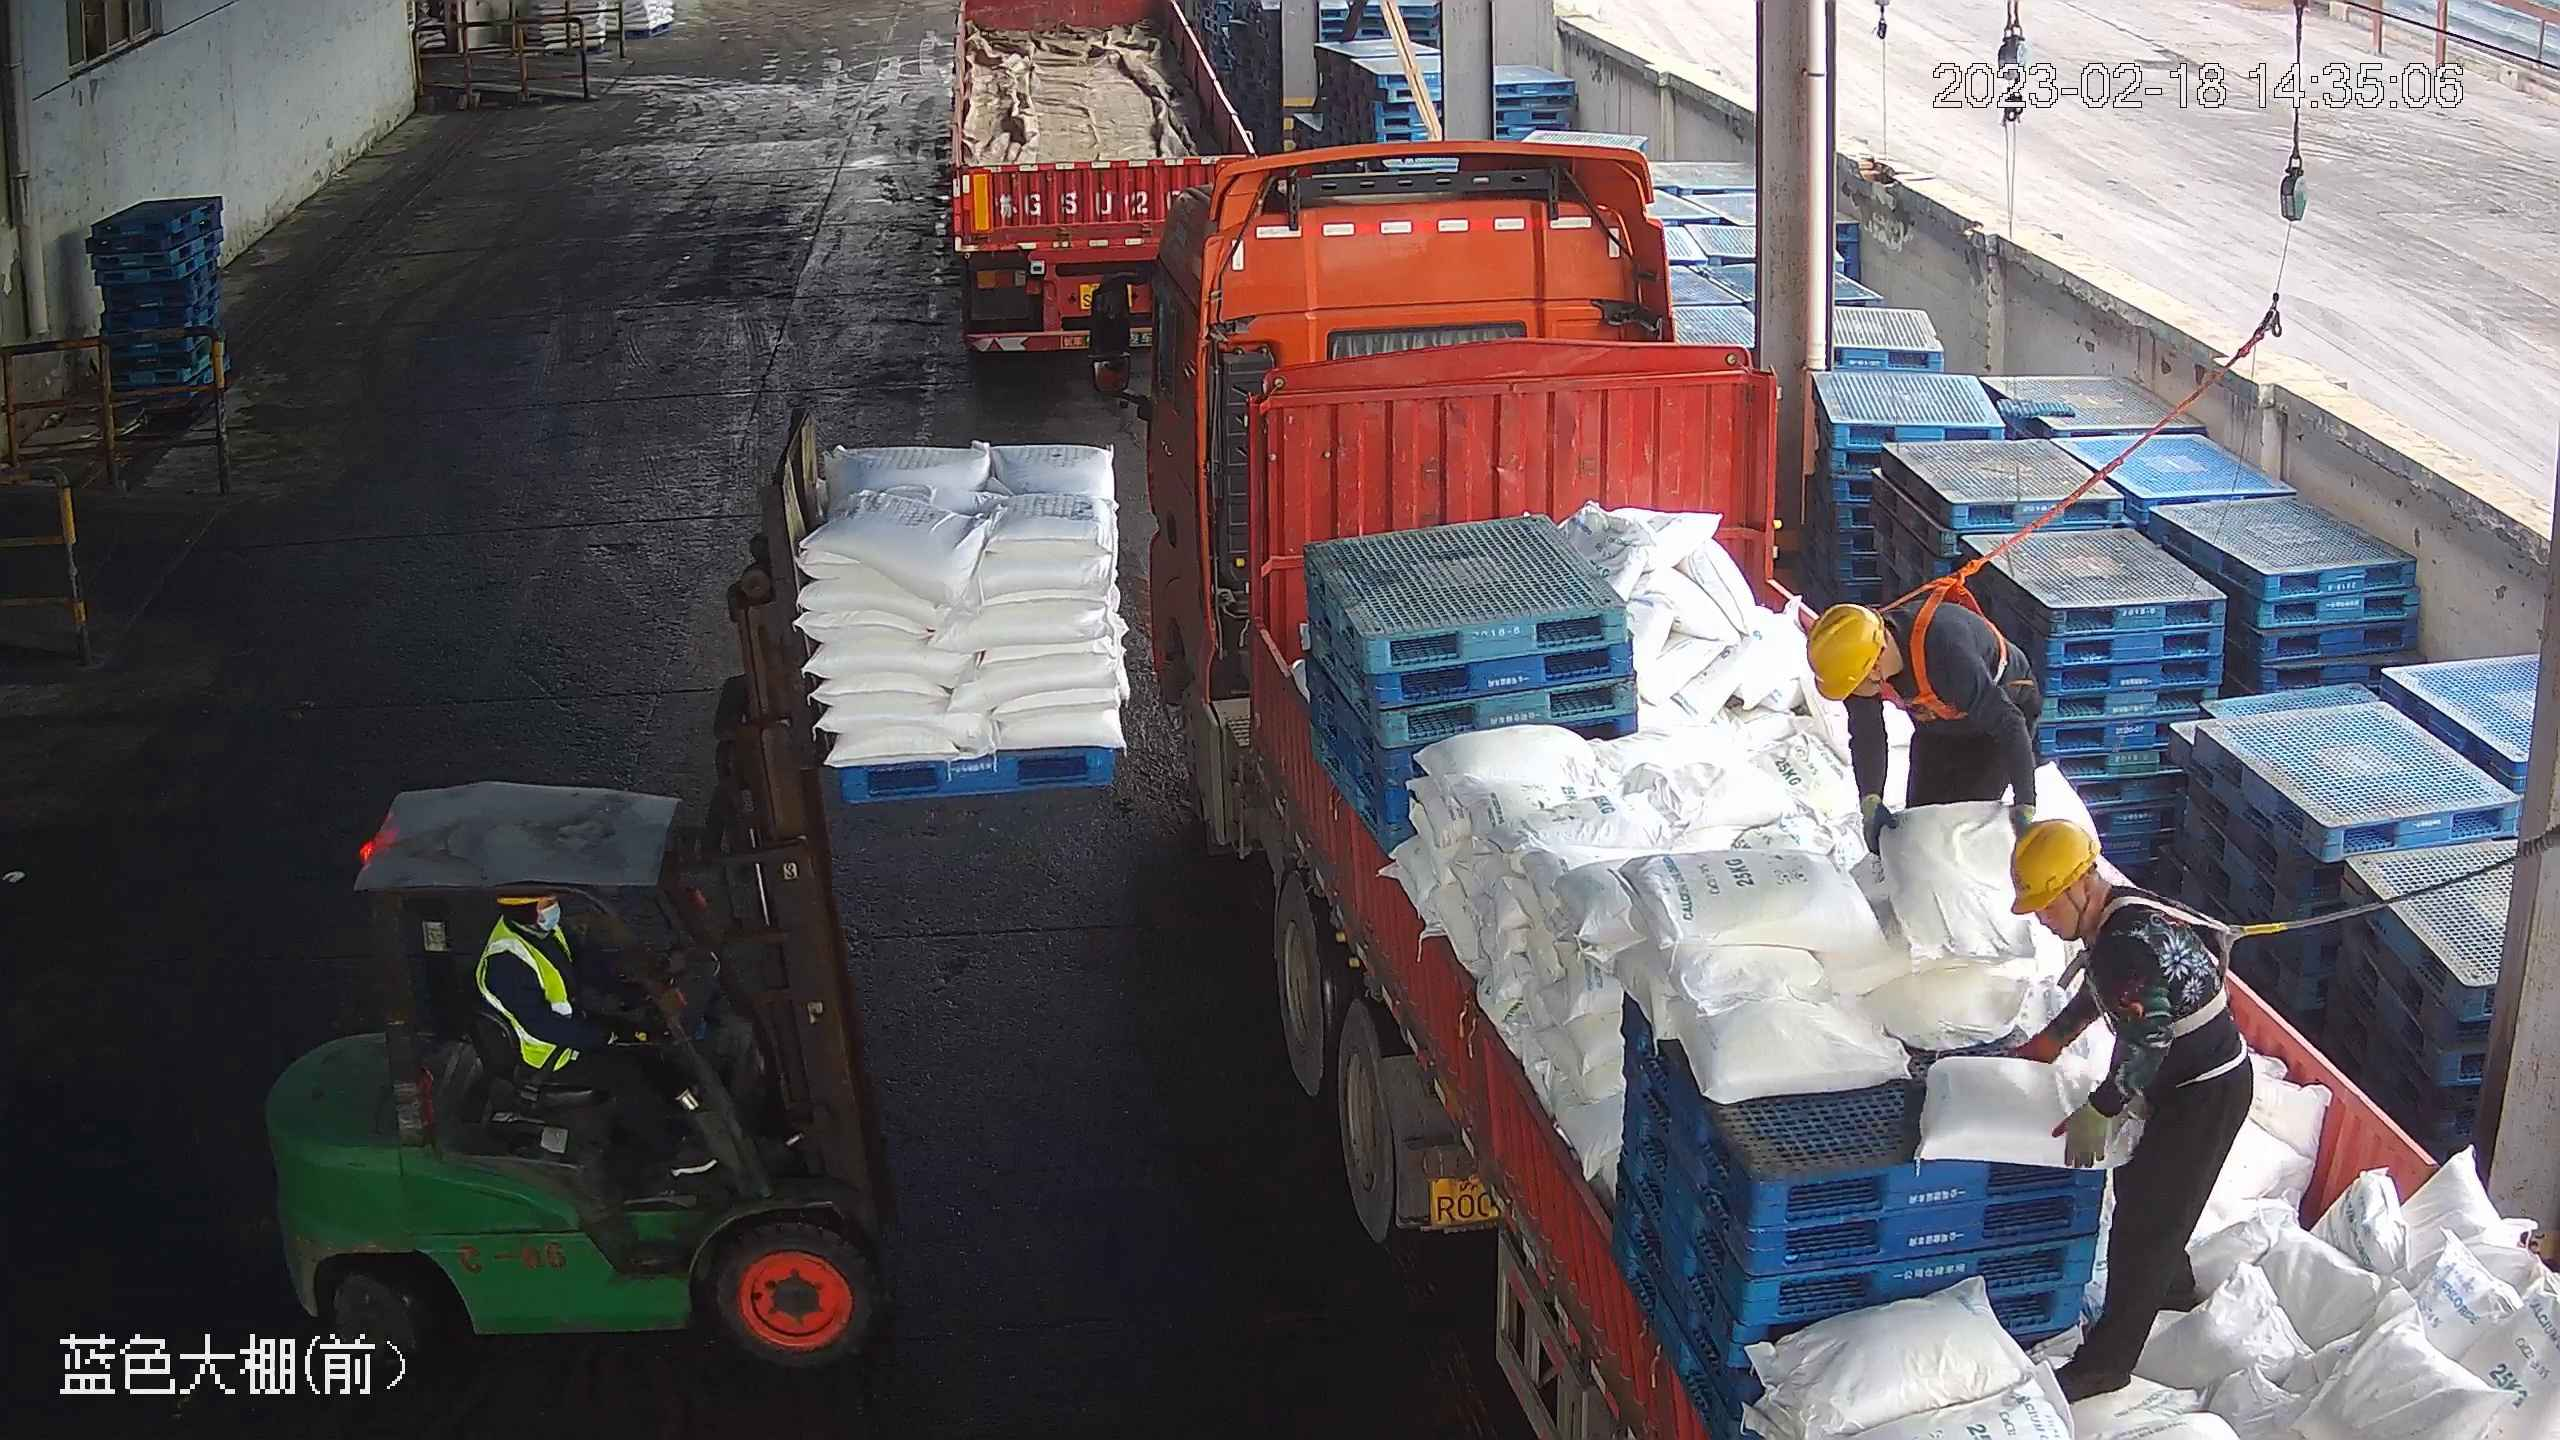belt: (2074, 867, 2269, 1033), (1883, 566, 1993, 728)
head: (2003, 818, 2206, 1032), (1806, 603, 1976, 750)
helmet: (2005, 818, 2105, 915), (1808, 606, 1884, 703)
people: (2001, 820, 2257, 1391), (476, 894, 720, 1191), (1808, 596, 2045, 866)
truck: (1083, 128, 2560, 1440), (944, 1, 1261, 378)
